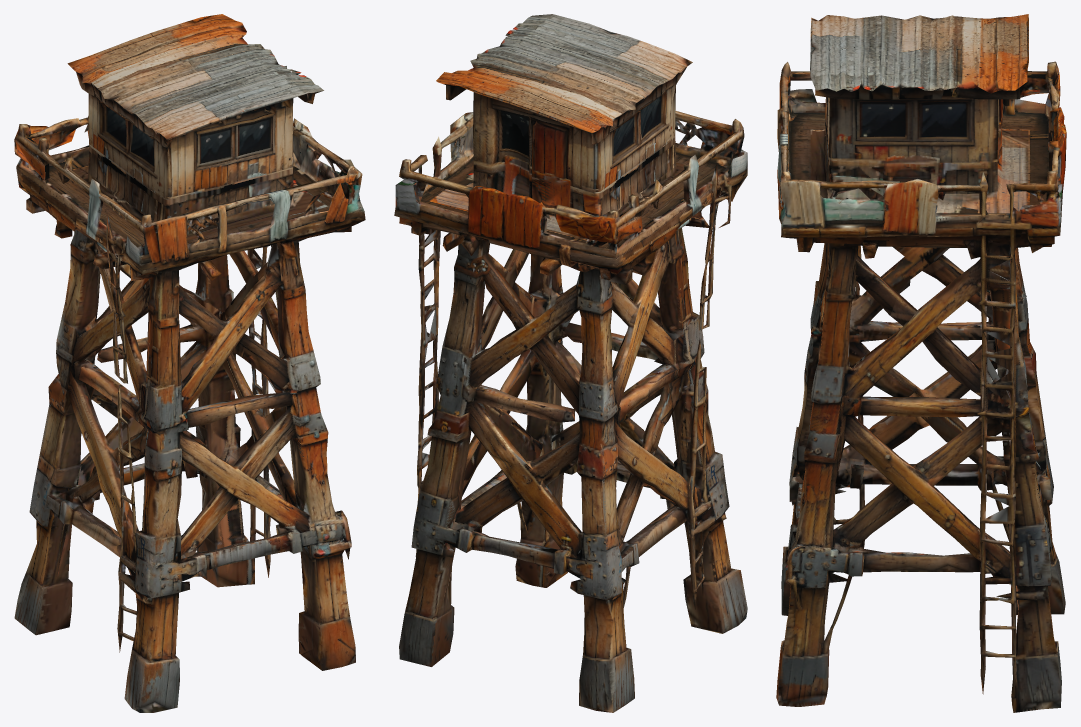
Rendered from Settle_Watchtower.fbx.
3 views of the same model, side by side, from view 1: azimuth 30°, elevation 25°; view 2: azimuth 150°, elevation 25°; view 3: azimuth 270°, elevation 25° (orthographic). The views are drawn at different scales.
Parts seen in each view (by area): view 1: texture_mapping; view 2: texture_mapping; view 3: texture_mapping.
Part boxes in pixels (x1,y1,x2,y2): texture_mapping: [14, 14, 365, 712]; texture_mapping: [394, 14, 747, 712]; texture_mapping: [776, 14, 1066, 712].
Bounding box in the file's own units: 0.4172 × 0.4205 × 0.9924.
Materials: 1 (1 with a texture image).
